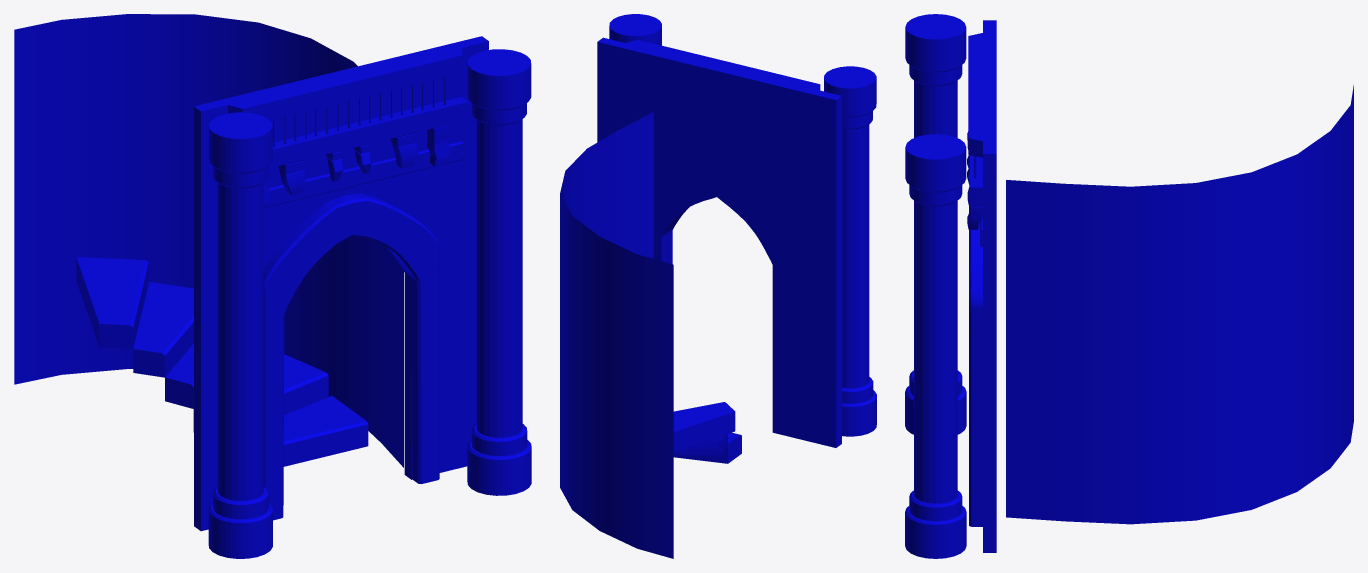
The model's file is EntranceUV.fbx.
The picture shows the model from 3 angles, left to right: view 1: azimuth 30°, elevation 25°; view 2: azimuth 150°, elevation 25°; view 3: azimuth 270°, elevation 25°; orthographic projection. The views are drawn at different scales.
Visible parts, largest first — view 1: WallStaircase, Wall, Pole22, Pole1, Arch, Staircase4, Staircase3, Staircase, Staircase1, Staircase2; view 2: Wall, WallStaircase, Pole1, Staircase4, Pole22, Staircase, Staircase1; view 3: WallStaircase, Pole22, Wall, Pole1, Arch.
Part boxes in pixels (x1=…): WallStaircase: x1=14, y1=14, x2=403, y2=467; Wall: x1=194, y1=36, x2=488, y2=531; Pole22: x1=467, y1=49, x2=531, y2=495; Pole1: x1=208, y1=112, x2=272, y2=558; Arch: x1=263, y1=193, x2=439, y2=520; Staircase4: x1=76, y1=257, x2=148, y2=349; Staircase3: x1=133, y1=282, x2=193, y2=377; Staircase: x1=283, y1=396, x2=368, y2=466; Staircase1: x1=193, y1=354, x2=328, y2=432; Staircase2: x1=165, y1=343, x2=193, y2=408; Wall: x1=597, y1=37, x2=841, y2=447; WallStaircase: x1=560, y1=112, x2=673, y2=558; Pole1: x1=824, y1=66, x2=876, y2=436; Staircase4: x1=673, y1=402, x2=735, y2=451; Pole22: x1=609, y1=14, x2=661, y2=45; Staircase: x1=673, y1=432, x2=741, y2=463; Staircase1: x1=673, y1=434, x2=727, y2=455; WallStaircase: x1=1006, y1=85, x2=1353, y2=524; Pole22: x1=905, y1=134, x2=966, y2=558; Wall: x1=967, y1=20, x2=996, y2=552; Pole1: x1=905, y1=14, x2=966, y2=434; Arch: x1=969, y1=207, x2=982, y2=526.
Bounding box in the file's own units: 5 × 6.37 × 6.49.
